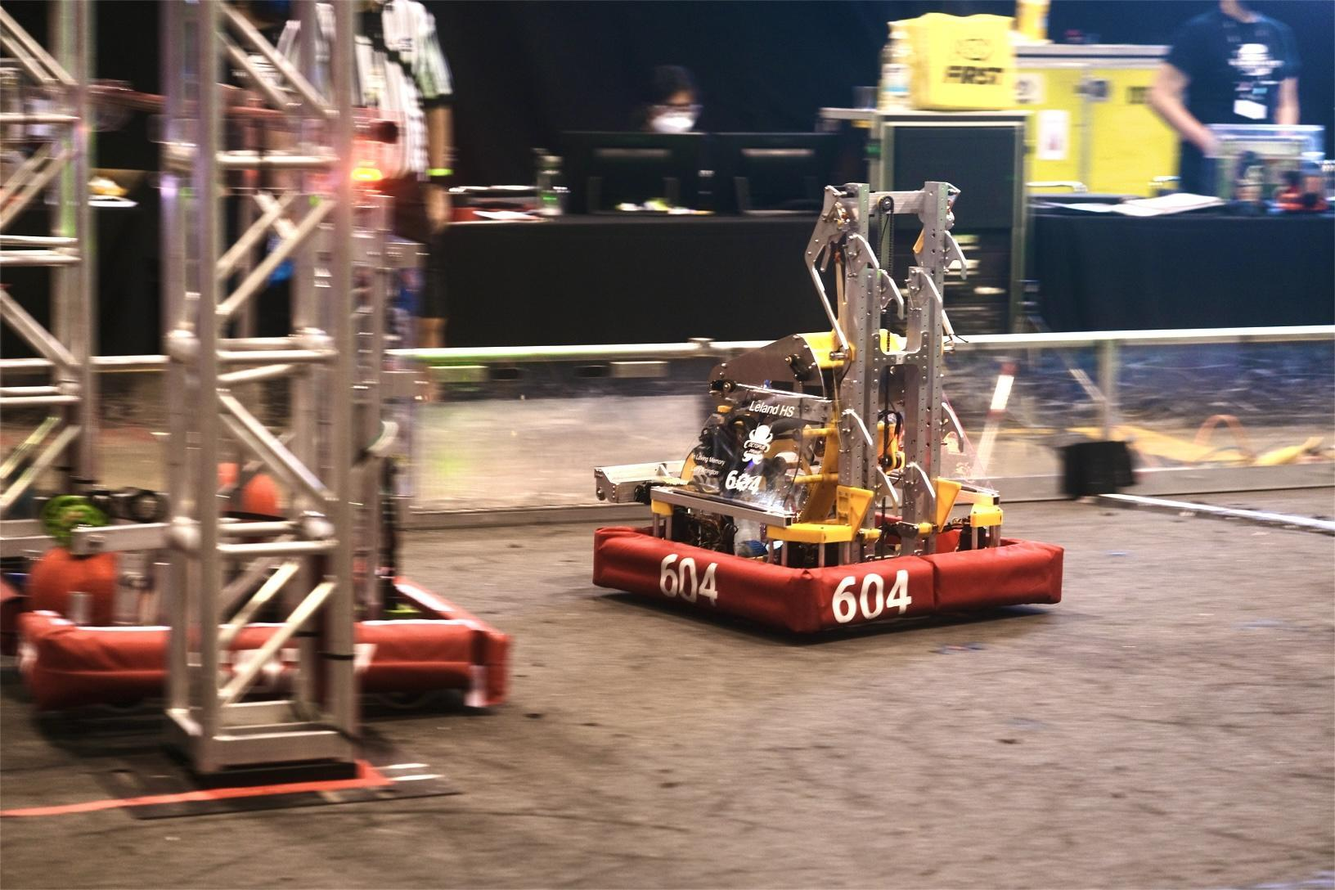robot: (0, 90, 519, 718), (588, 175, 1074, 641)
